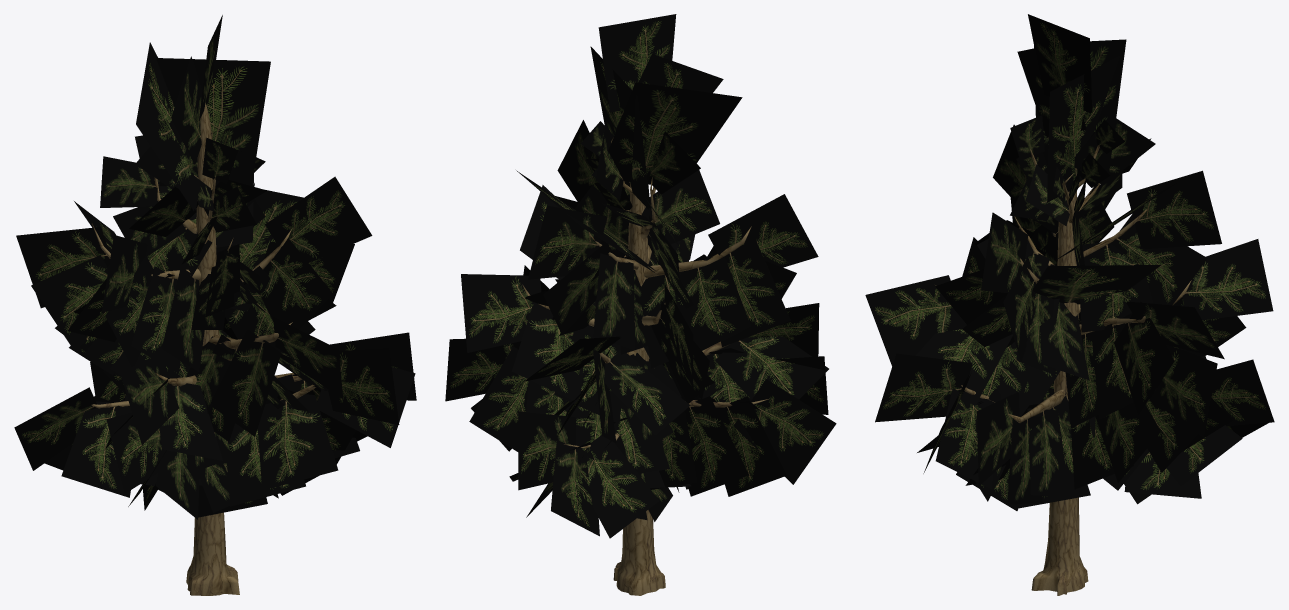
Rendered from PineTree01.fbx.
The picture shows the model from 3 angles, left to right: view 1: azimuth 30°, elevation 25°; view 2: azimuth 150°, elevation 25°; view 3: azimuth 270°, elevation 25°; orthographic projection.
Parts seen in each view (by area): view 1: Plane, Cylinder; view 2: Plane, Cylinder; view 3: Plane, Cylinder.
Boxes of the visible parts, box(x1,y1,x2,y2) form: Plane: box(14, 15, 416, 519); Cylinder: box(91, 103, 315, 595); Plane: box(445, 14, 836, 538); Cylinder: box(522, 139, 769, 595); Plane: box(865, 14, 1274, 510); Cylinder: box(935, 145, 1191, 595).
Bounding box in the file's own units: 521 × 771 × 511.
